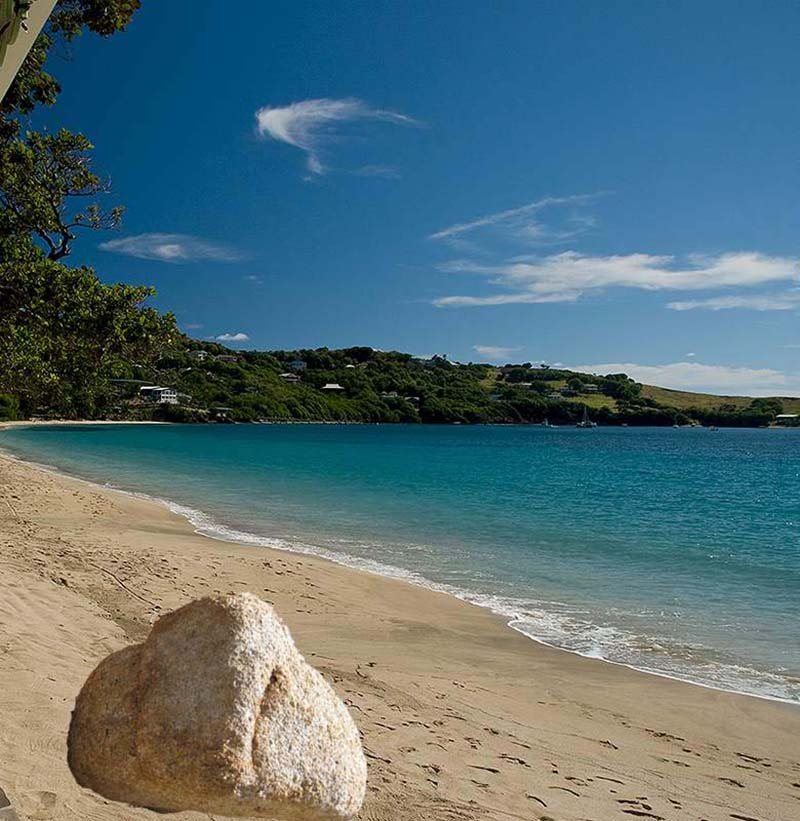Rocks: (54, 577, 371, 821)
